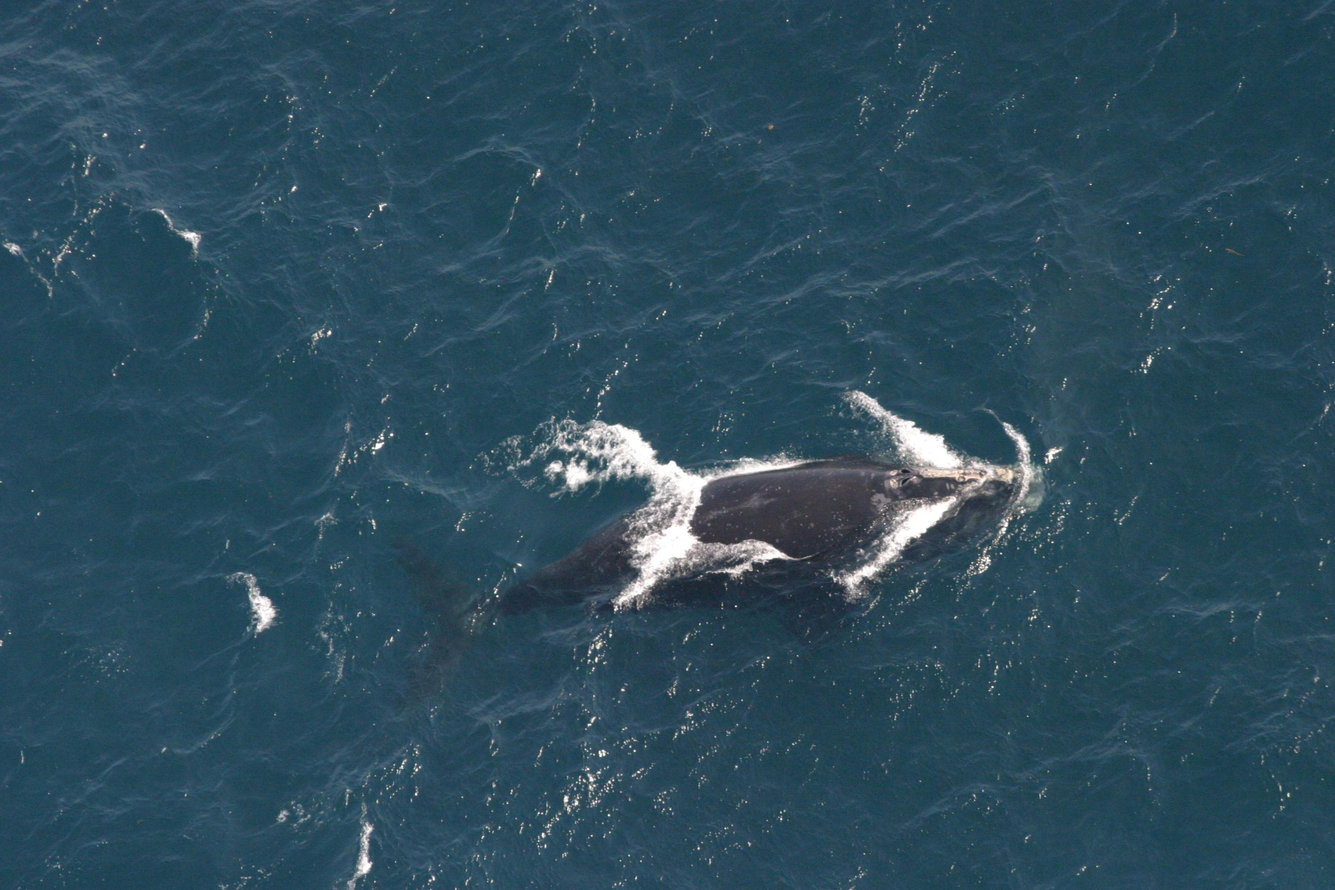whale: (374, 445, 1056, 717)
